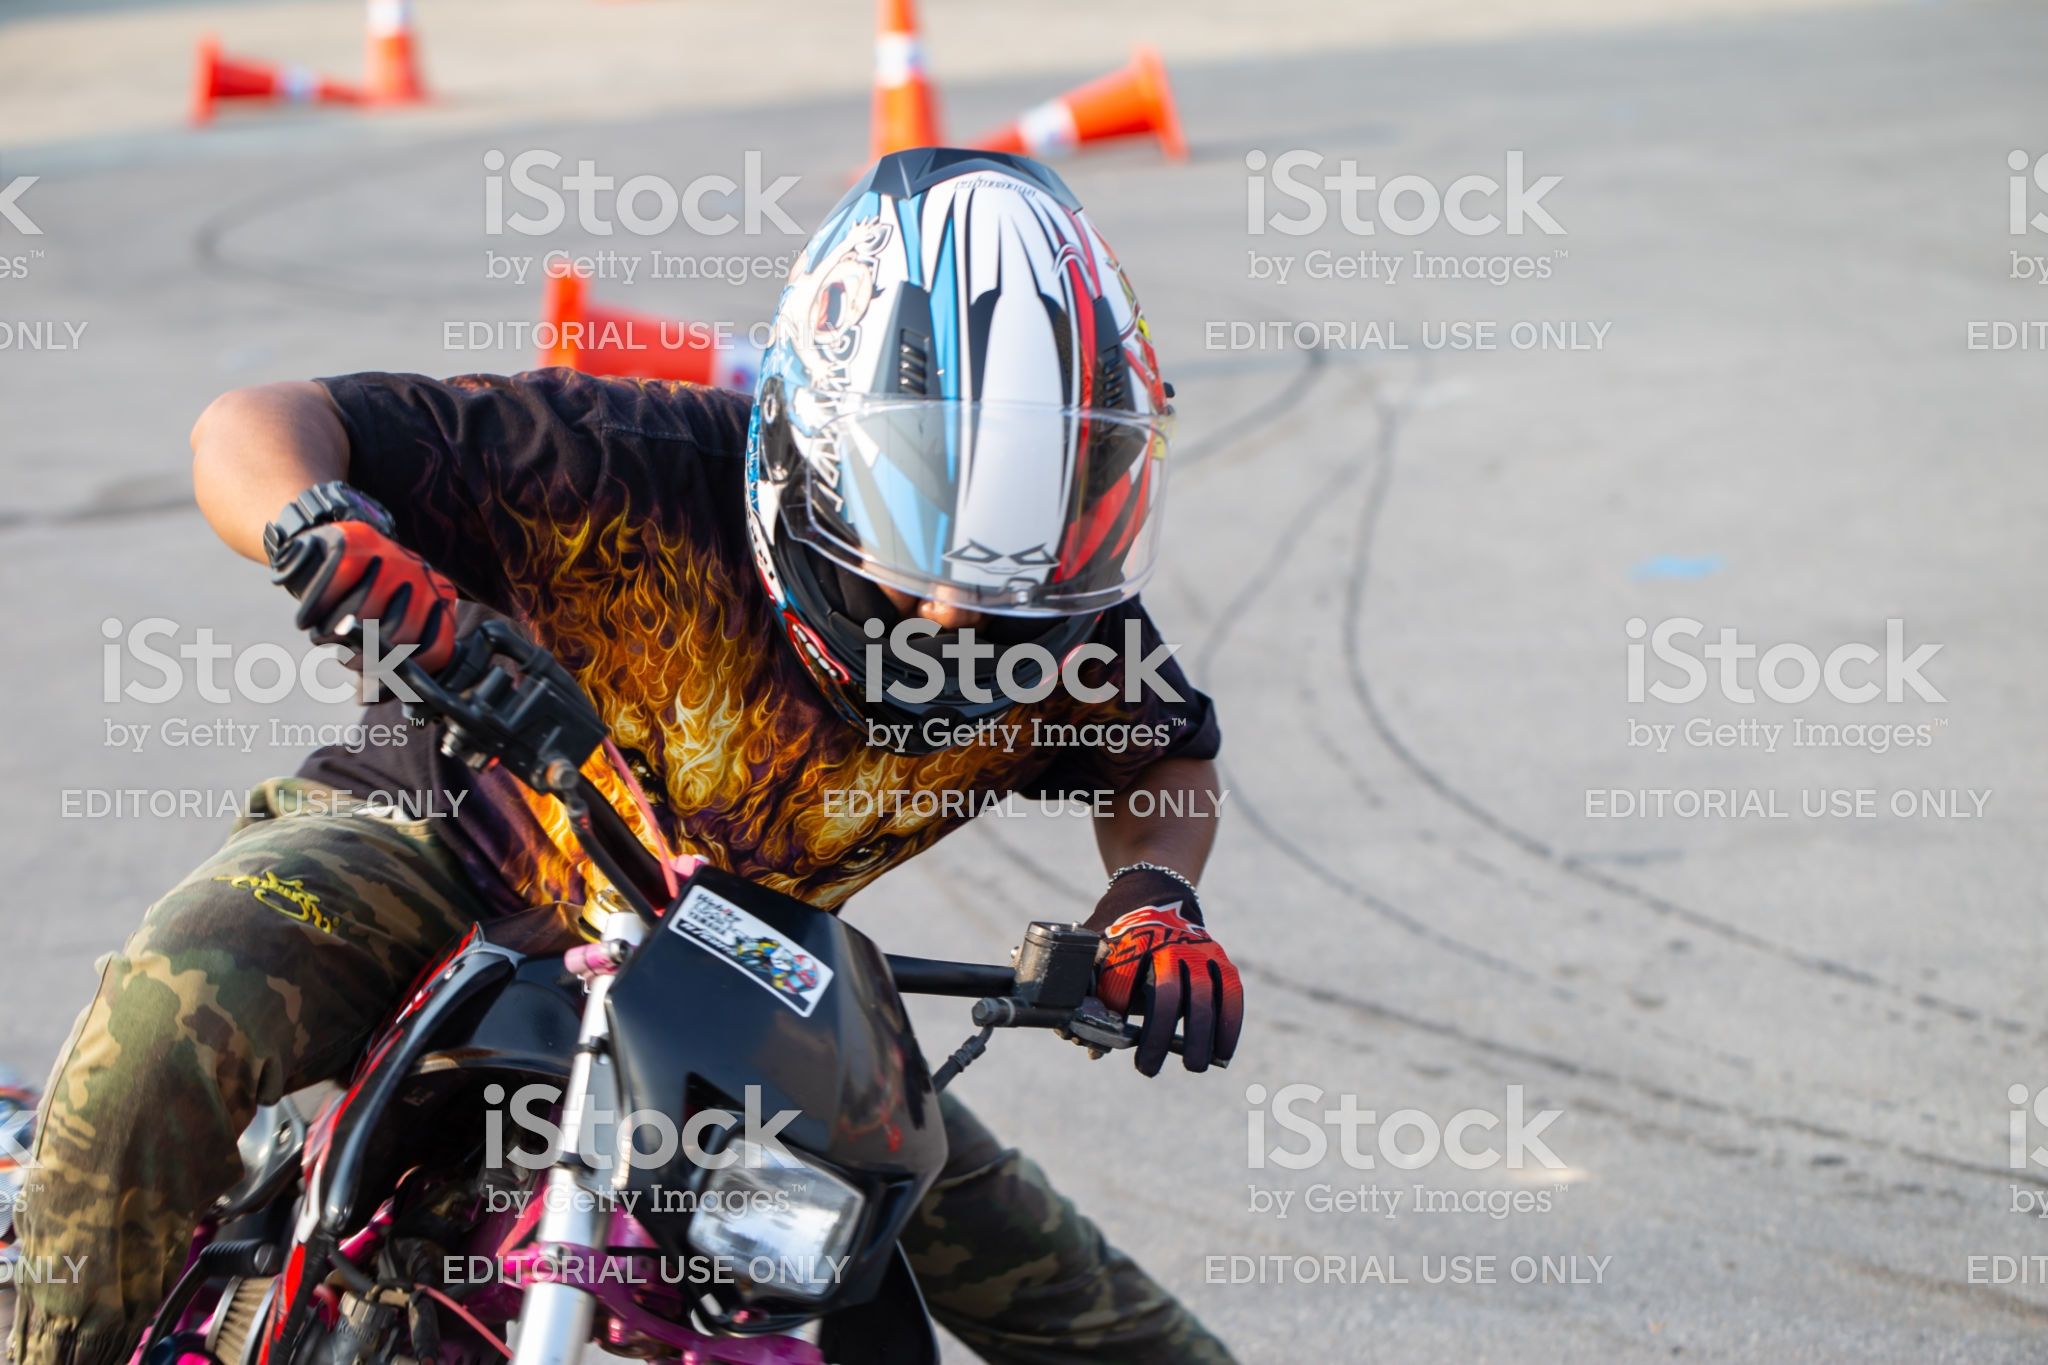helmet: (770, 146, 1150, 786)
